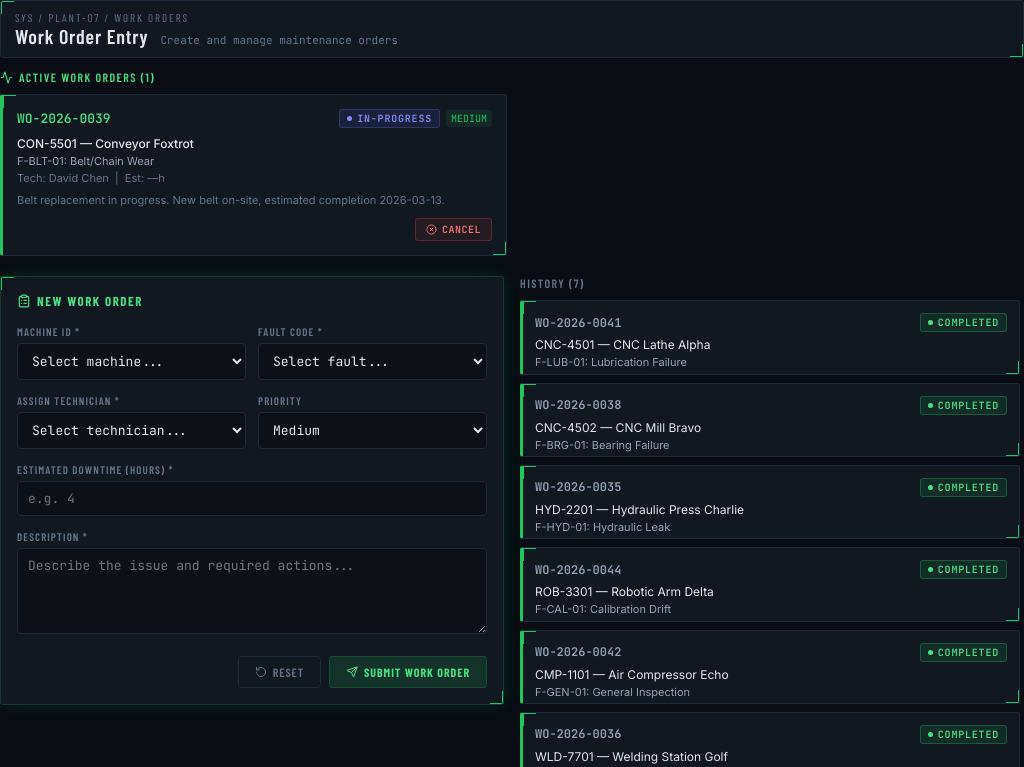
Test: WorkOrders › validates description minimum length
Type "Short" into the text box with placeholder "Describe the issue and required actions...".
click(252, 591); type("Short")  # box [17,548,487,634]
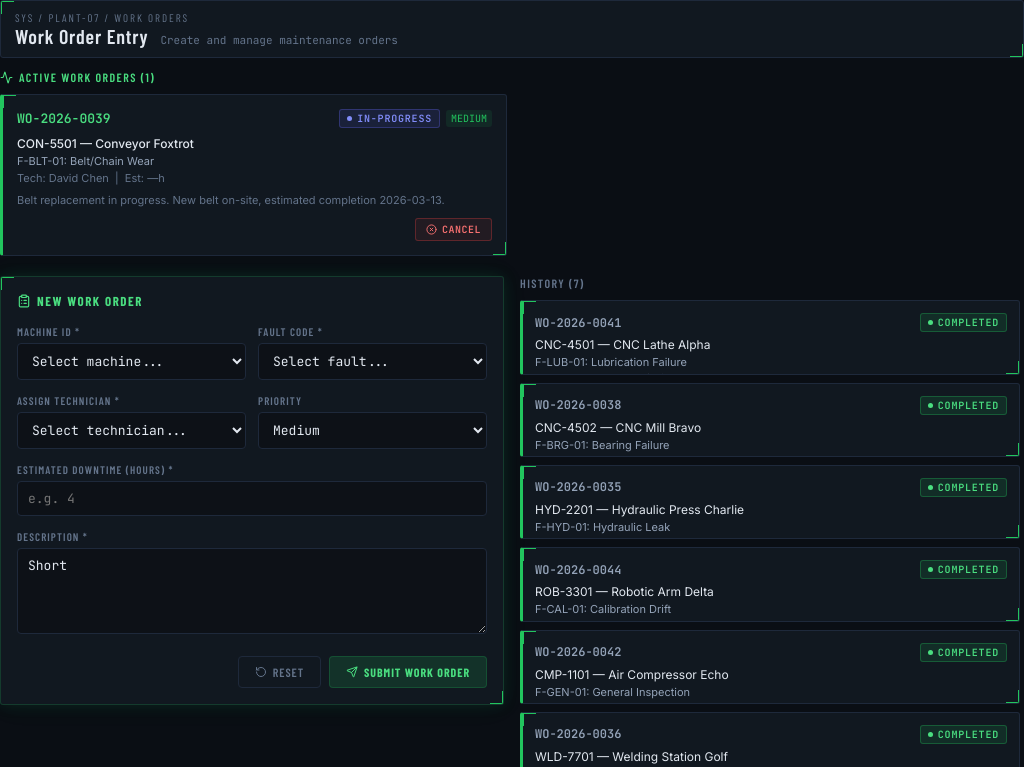
Click the button "Submit Work Order".
click(408, 672)  # box [329,656,487,688]
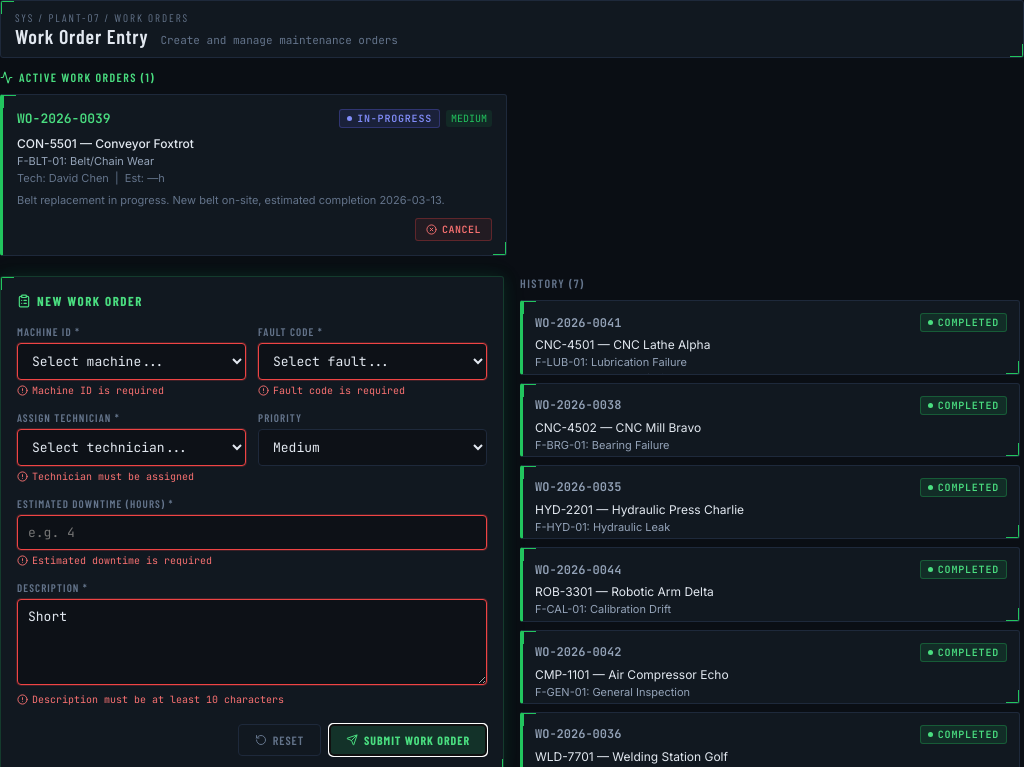
expect the text "Description must be at least 10 characters" is shown: met, box [17,693,284,706]
